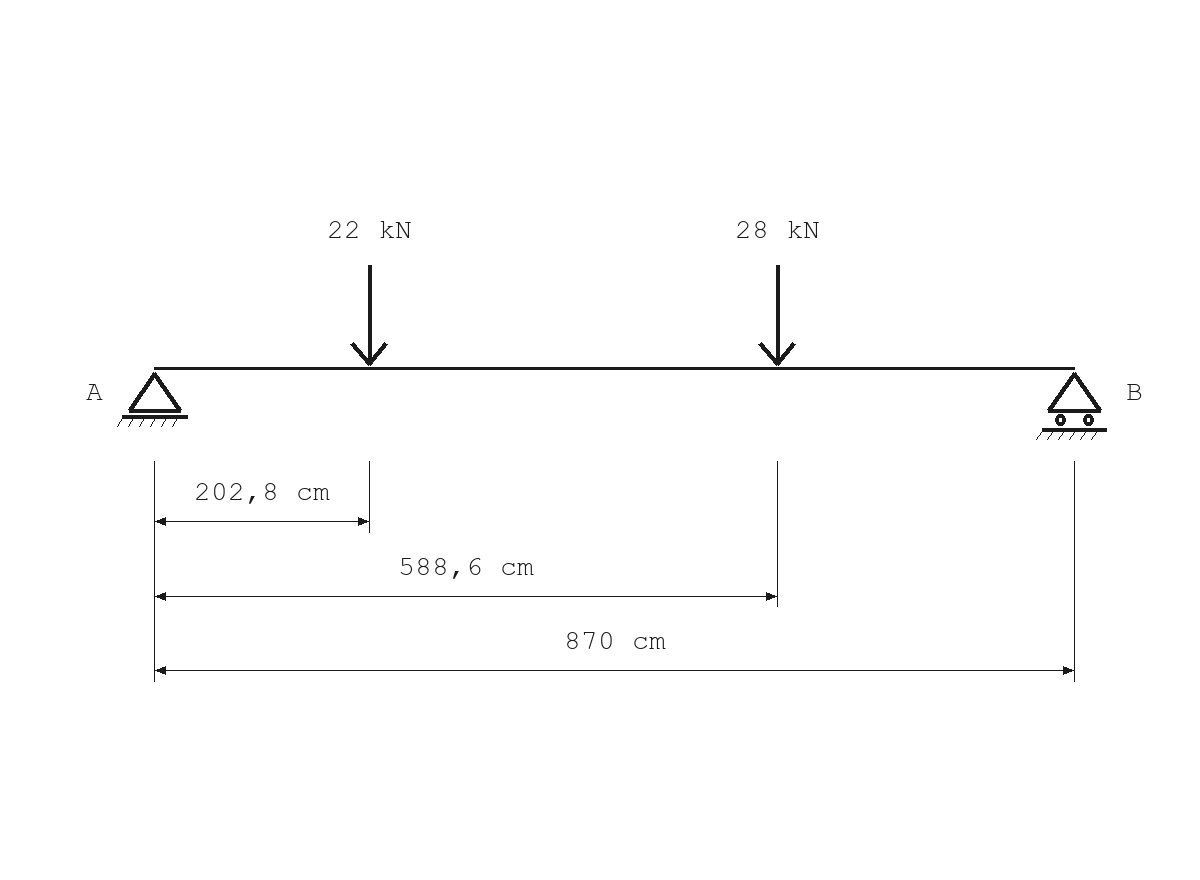pin_support: (117, 372, 188, 427)
point_load: (350, 265, 388, 366), (758, 265, 796, 366)
roller_support: (1036, 372, 1107, 440)
